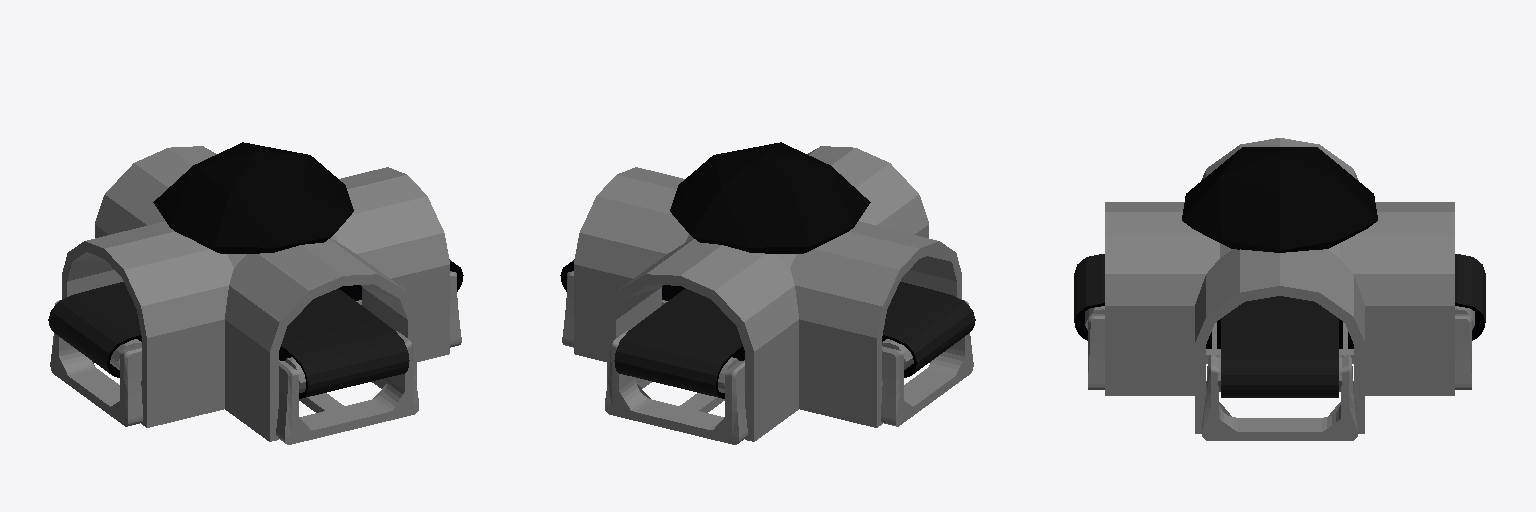
Rendered from density_sorter.obj.
3 renders of one model, left to right at view 1: azimuth 30°, elevation 25°; view 2: azimuth 150°, elevation 25°; view 3: azimuth 270°, elevation 25°, orthographic.
Parts seen in each view (by area): view 1: Plane.001, Icosphere, legs.002, belt.003, belt.002; view 2: Plane.001, Icosphere, legs.002, belt.001, belt.002; view 3: Plane.001, Icosphere, belt.002, legs.002, belt.003, belt.001.
Boxes of the visible parts, x1=… form: Plane.001: x1=62, y1=146, x2=449, y2=441; Icosphere: x1=153, y1=142, x2=353, y2=253; legs.002: x1=50, y1=271, x2=461, y2=444; belt.003: x1=279, y1=288, x2=409, y2=398; belt.002: x1=48, y1=259, x2=463, y2=377; Plane.001: x1=574, y1=146, x2=961, y2=441; Icosphere: x1=670, y1=142, x2=870, y2=253; legs.002: x1=562, y1=271, x2=973, y2=444; belt.001: x1=614, y1=288, x2=744, y2=398; belt.002: x1=560, y1=259, x2=975, y2=377; Plane.001: x1=1105, y1=138, x2=1454, y2=433; Icosphere: x1=1182, y1=147, x2=1377, y2=252; belt.002: x1=1221, y1=296, x2=1338, y2=397; legs.002: x1=1088, y1=314, x2=1471, y2=440; belt.003: x1=1074, y1=254, x2=1220, y2=348; belt.001: x1=1339, y1=254, x2=1485, y2=348.
Size of the model in its own units: 2.98 by 1.66 by 2.98.